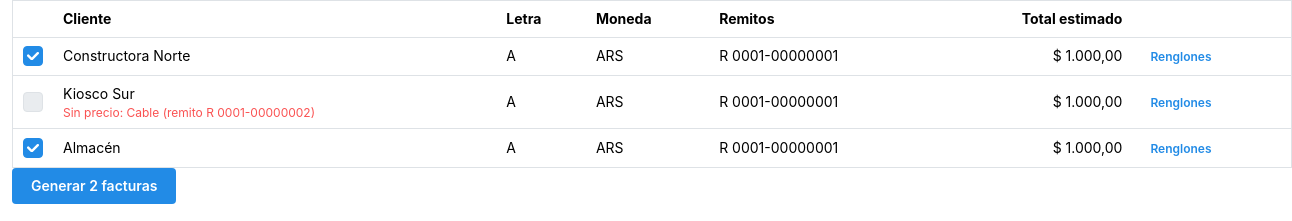
facturación por lotes (web, E55) › marca los clientes sin problemas y bloquea los que tienen
The width and height of the screenshot is (1292, 221).
Check: the checkbox named "Elegir Constructora Norte" is checked, box [23,46,43,66]
Check: the checkbox named "Elegir Kiosco Sur" is not checked, box [23,92,43,112]
Click the checkbox named "Elegir Almacén" at (33, 148), box [23,138,43,158]
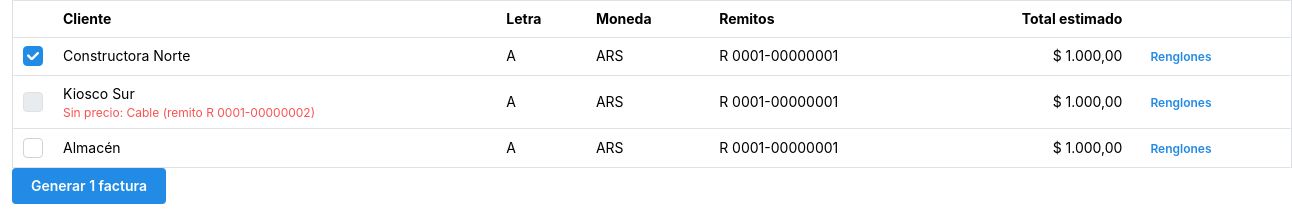
Check: the button "Generar 1 factura" is shown, box [12,168,166,204]
